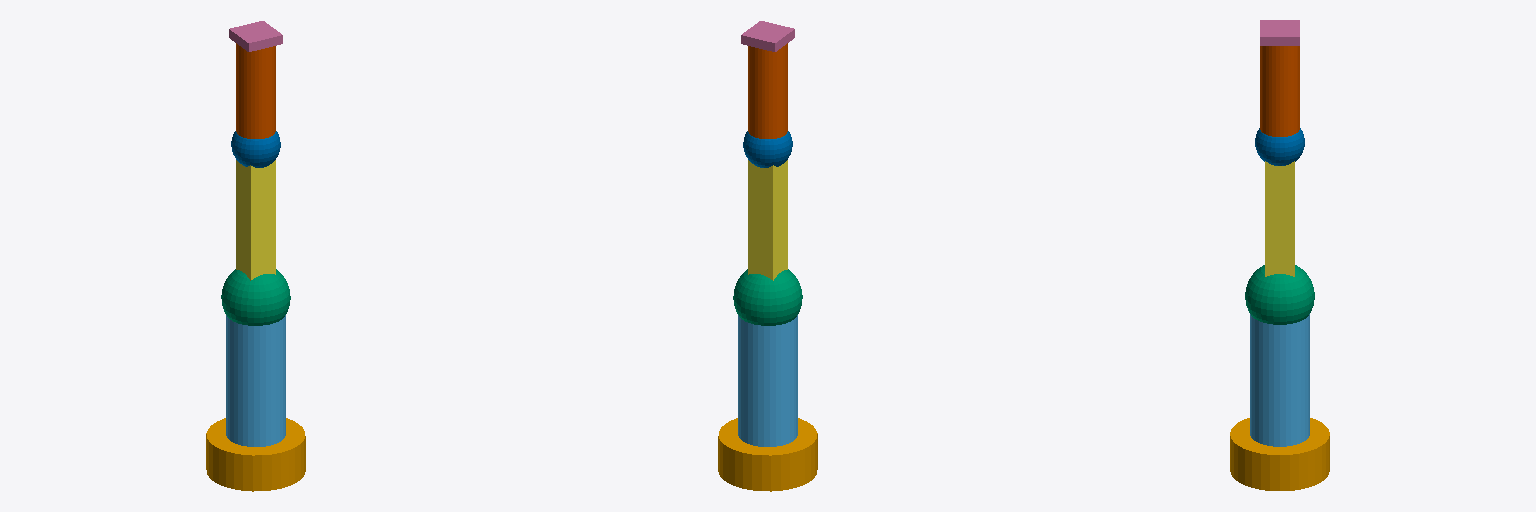
The robot description file, URDF, robot "dummy_robot_6dof":
<?xml version="1.0" encoding="utf-8"?>
<robot name="dummy_robot_6dof">
  <link name="base_link">
    <visual>
      <geometry><cylinder radius="0.05" length="0.04"/></geometry>
    </visual>
  </link>

  <joint name="joint1" type="revolute">
    <parent link="base_link"/><child link="link1"/>
    <origin xyz="0 0 0.02" rpy="0 0 0"/>
    <axis xyz="0 0 1"/>
    <limit lower="-3.14" upper="3.14" effort="10" velocity="1"/>
  </joint>

  <link name="link1">
    <visual>
      <origin xyz="0 0 0.076" rpy="0 0 0"/>
      <geometry><cylinder radius="0.03" length="0.1525"/></geometry>
    </visual>
  </link>

  <joint name="joint2" type="revolute">
    <parent link="link1"/><child link="link2"/>
    <origin xyz="0 0 0.1525" rpy="0 0 0"/> 
    <axis xyz="0 1 0"/> 
    <limit lower="-3.14" upper="3.14" effort="10" velocity="1"/>
  </joint>

  <link name="link2">
    <visual>
      <geometry><sphere radius="0.035"/></geometry>
    </visual>
  </link>

  <joint name="joint3" type="revolute">
    <parent link="link2"/><child link="link3"/>
    <origin xyz="0 0 0" rpy="0 0 0"/> 
    <axis xyz="0 1 0"/>
    <limit lower="-3.14" upper="3.14" effort="10" velocity="1"/>
  </joint>

  <link name="link3">
    <visual>
      <origin xyz="0 0 0.085" rpy="0 0 0"/>
      <geometry><box size="0.03 0.03 0.17"/></geometry>
    </visual>
  </link>

  <joint name="joint4" type="revolute">
    <parent link="link3"/><child link="link4"/>
    <origin xyz="0 0 0.17" rpy="0 0 0"/>
    <axis xyz="0 0 1"/>
    <limit lower="-3.14" upper="3.14" effort="10" velocity="1"/>
  </joint>

  <link name="link4">
    <visual>
      <geometry><sphere radius="0.025"/></geometry>
    </visual>
  </link>

  <joint name="joint5" type="revolute">
    <parent link="link4"/><child link="link5"/>
    <origin xyz="0 0 0" rpy="0 0 0"/>
    <axis xyz="0 1 0"/>
    <limit lower="-3.14" upper="3.14" effort="10" velocity="1"/>
  </joint>

  <link name="link5">
    <visual>
      <origin xyz="0 0 0.06" rpy="0 0 0"/>
      <geometry><cylinder radius="0.02" length="0.12"/></geometry>
    </visual>
  </link>

  <joint name="joint6" type="revolute">
    <parent link="link5"/><child link="link6"/>
    <origin xyz="0 0 0.12" rpy="0 0 0"/>
    <axis xyz="0 0 1"/>
    <limit lower="-3.14" upper="3.14" effort="10" velocity="1"/>
  </joint>

  <link name="link6">
    <visual>
      <geometry><box size="0.04 0.04 0.01"/></geometry>
    </visual>
  </link>
</robot>

--- What the picture shows (computed from the rendered views, not written in the file) ---
Views: 3 orthographic renders of the robot side by side, from view 1: azimuth 30°, elevation 25°; view 2: azimuth 150°, elevation 25°; view 3: azimuth 270°, elevation 25°.
Model dummy_robot_6dof with 7 links and 6 joints (6 revolute), rooted at base_link, posed all joints at 0.
Links seen in each view (by area): view 1: link1, base_link, link3, link5, link2, link4, link6; view 2: link1, base_link, link3, link5, link2, link4, link6; view 3: link1, base_link, link5, link3, link2, link4, link6.
Boxes of the visible links, x1,y1,x2,y2 form: link1: [226, 315, 285, 446]; base_link: [206, 418, 305, 491]; link3: [236, 160, 275, 280]; link5: [236, 43, 275, 138]; link2: [221, 269, 290, 325]; link4: [231, 131, 280, 167]; link6: [229, 21, 282, 51]; link1: [738, 315, 797, 446]; base_link: [718, 418, 817, 491]; link3: [748, 160, 787, 280]; link5: [748, 43, 787, 138]; link2: [733, 269, 802, 325]; link4: [743, 131, 792, 167]; link6: [741, 21, 794, 51]; link1: [1250, 314, 1309, 446]; base_link: [1230, 418, 1329, 490]; link5: [1260, 46, 1299, 136]; link3: [1265, 161, 1294, 276]; link2: [1245, 265, 1314, 324]; link4: [1255, 128, 1304, 165]; link6: [1260, 20, 1299, 45].
Size in the robot's own frame: 0.1 by 0.1 by 0.4875 metres.
Geometry: primitives only (box / cylinder / sphere), no mesh files.
